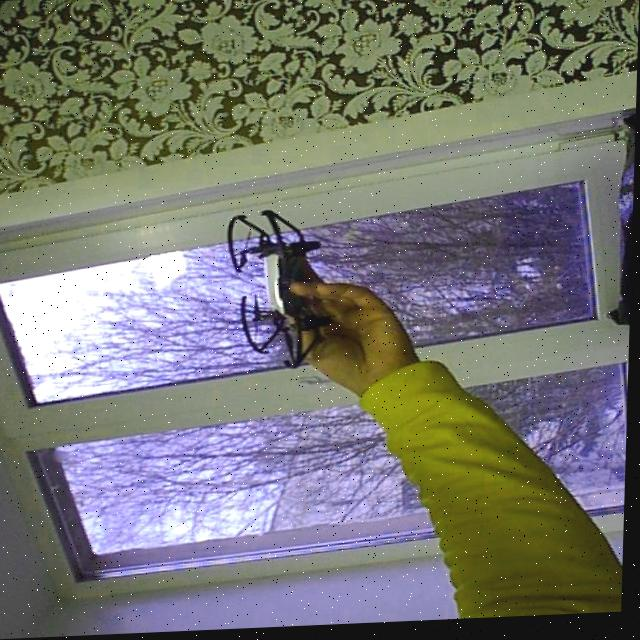drone: (227, 200, 332, 376)
